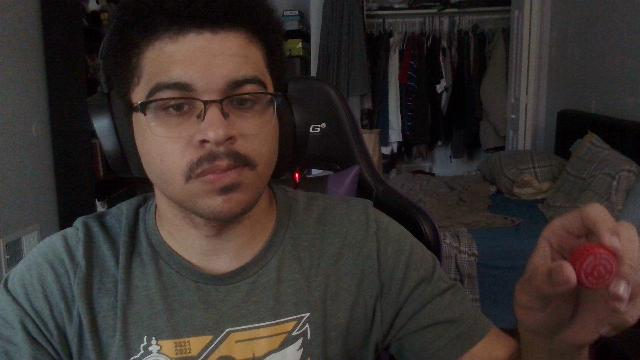cap: (571, 243, 617, 290)
